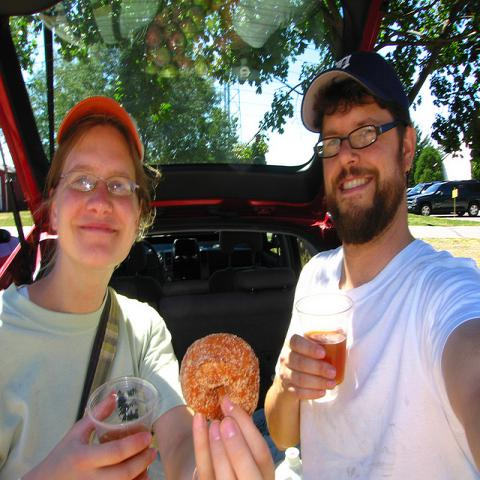car: (0, 0, 385, 410), (406, 179, 480, 218), (406, 182, 434, 197)
